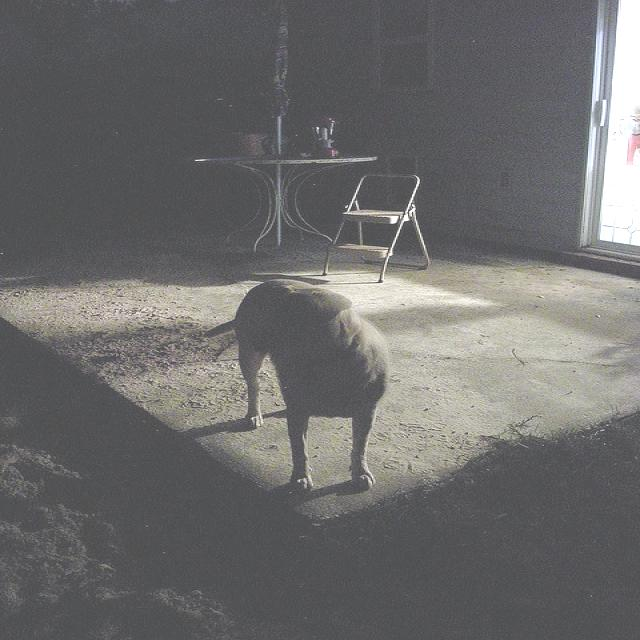Dog: (146, 251, 438, 510)
